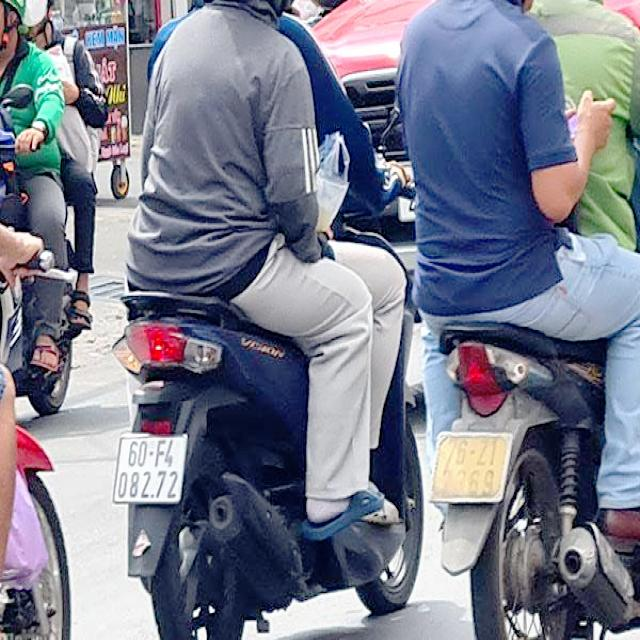license_plate: (430, 430, 516, 502), (116, 437, 189, 505)
